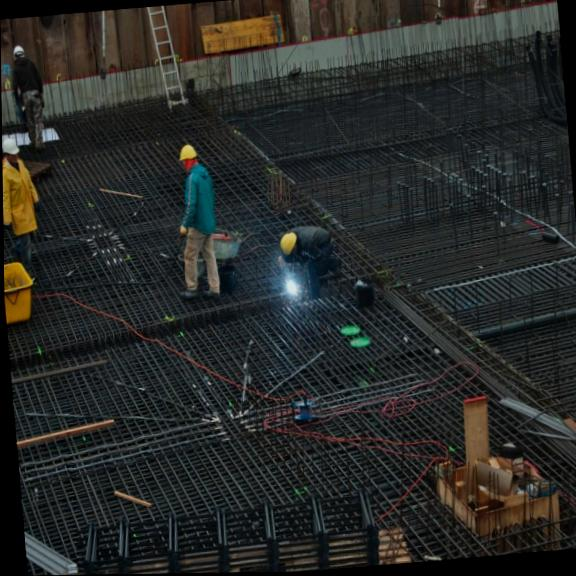no_safety_vest: (175, 168, 222, 237), (2, 160, 35, 235), (296, 217, 335, 260), (5, 59, 45, 98)
